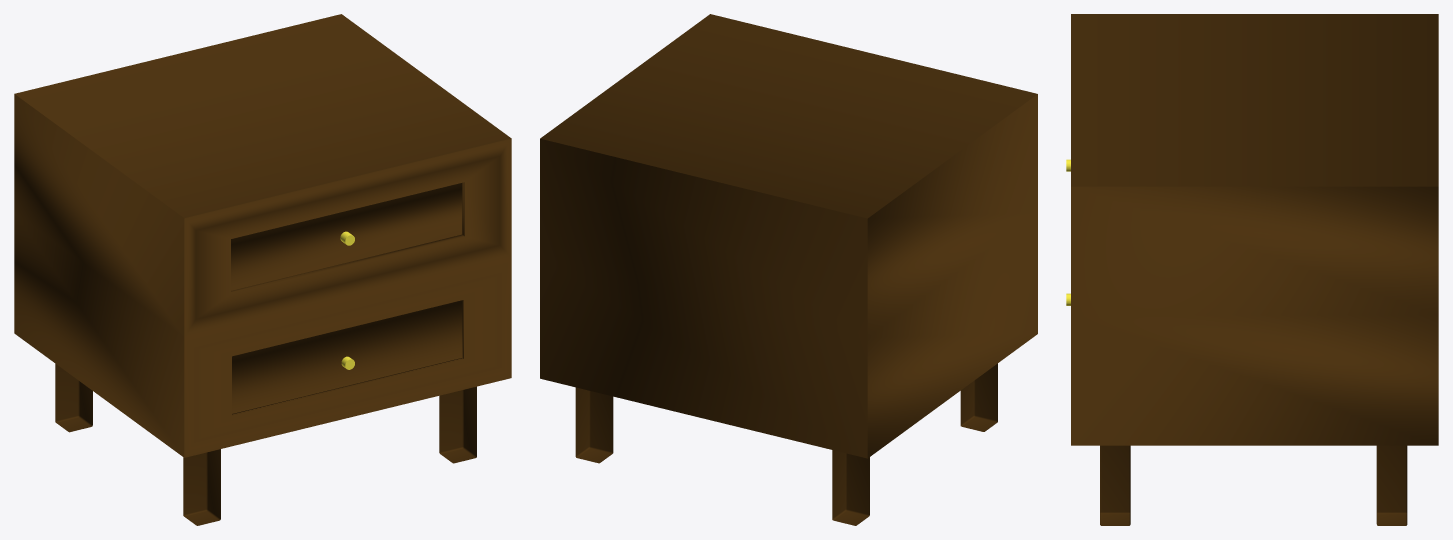
Rendered from Metcalf_Nightstand_01.fbx.
The picture shows the model from 3 angles, left to right: view 1: azimuth 30°, elevation 25°; view 2: azimuth 150°, elevation 25°; view 3: azimuth 270°, elevation 25°; orthographic projection. The views are drawn at different scales.
Visible parts, largest first — view 1: Body, Leg3, Leg2, Leg4; view 2: Body, Leg1, Leg4, Leg2; view 3: Body, Leg1, Leg3.
Boxes of the visible parts, x1,y1,x2,y2 form: Body: (14, 14, 511, 457); Leg3: (439, 386, 476, 463); Leg2: (183, 449, 220, 525); Leg4: (55, 364, 92, 432); Body: (540, 14, 1037, 458); Leg1: (575, 387, 613, 463); Leg4: (832, 450, 869, 525); Leg2: (960, 363, 997, 431); Body: (1071, 14, 1438, 445); Leg1: (1376, 445, 1407, 525); Leg3: (1100, 445, 1130, 525).
Bounding box in the file's own units: 610 × 578 × 556.
